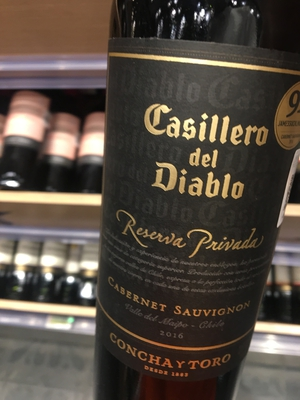casillero del diablo reserva privada cabernet sauvignon: (87, 7, 300, 393)
